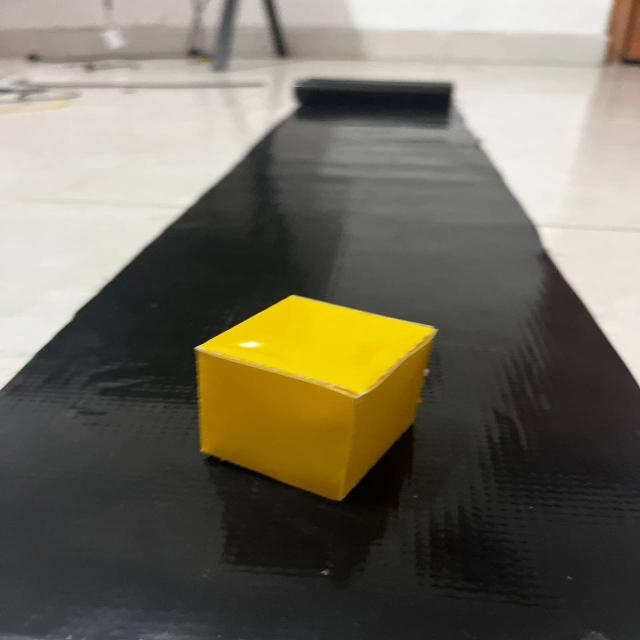Amarillo: (178, 288, 452, 516)
